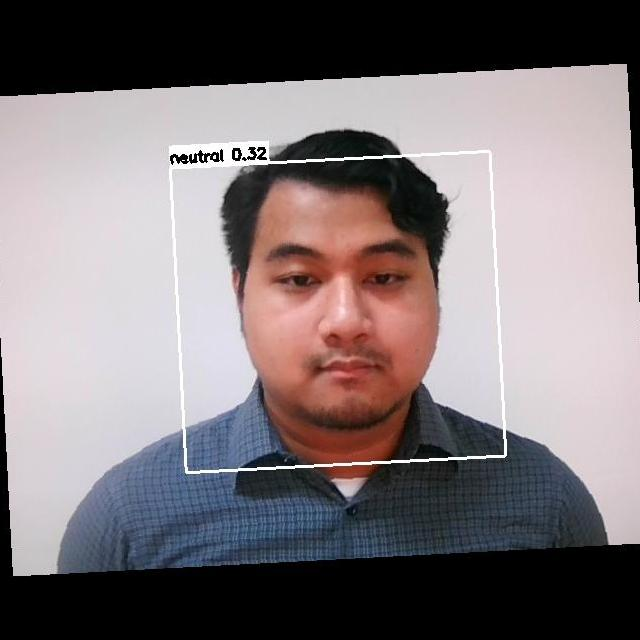Natural: (249, 240, 447, 389)
